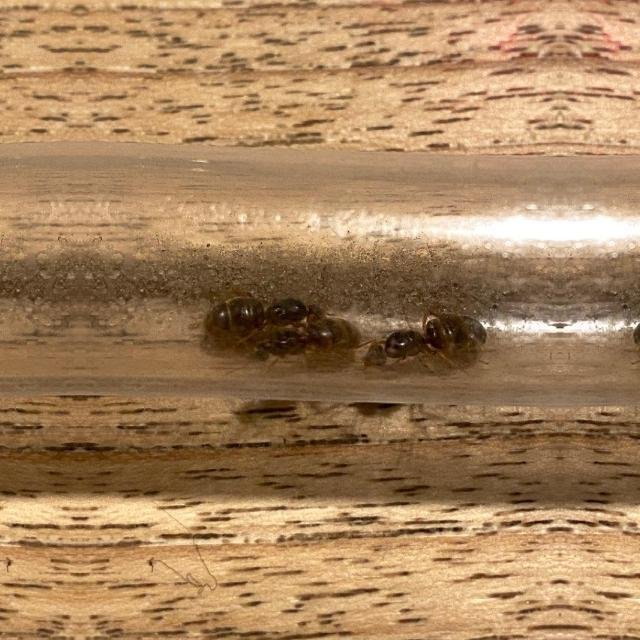Lasius: (357, 303, 498, 373), (247, 304, 379, 366), (203, 279, 333, 335)
